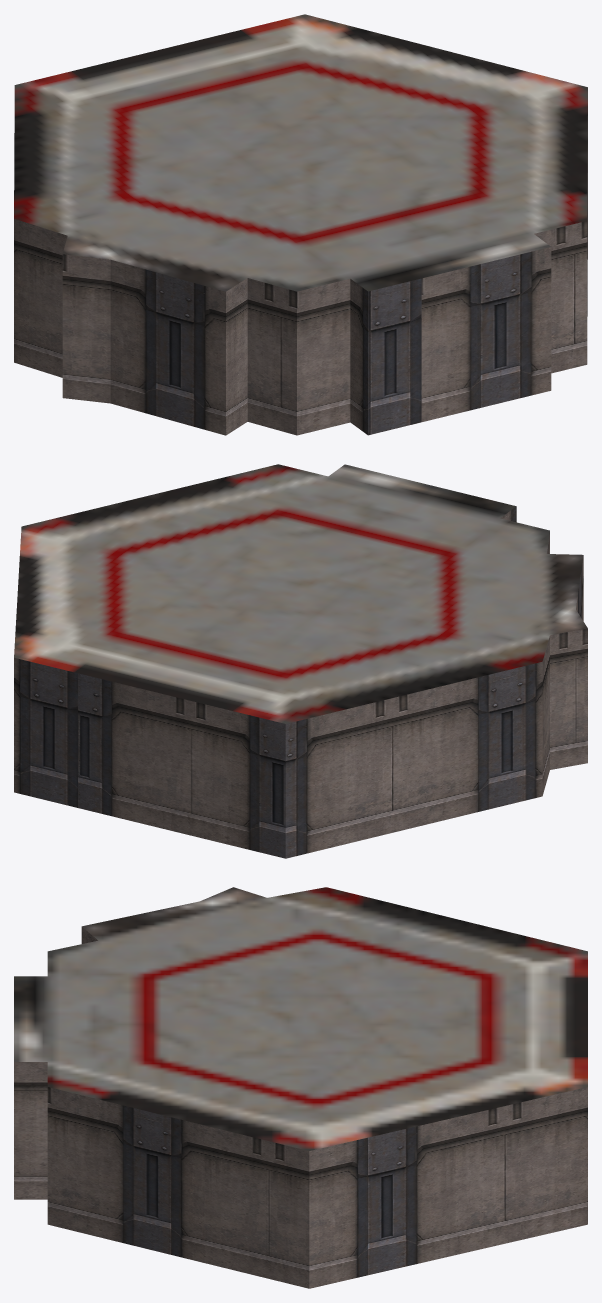
File: bsealed_light_24.glb
The picture shows the model from 3 angles, top to bottom: view 1: azimuth 30°, elevation 25°; view 2: azimuth 150°, elevation 25°; view 3: azimuth 270°, elevation 25°; orthographic projection. The views are drawn at different scales.
Parts seen in each view (by area): view 1: buildings/saxarba/bsealed_light/bsealed_light_24; view 2: buildings/saxarba/bsealed_light/bsealed_light_24; view 3: buildings/saxarba/bsealed_light/bsealed_light_24.
Boxes of the visible parts, x1,y1,x2,y2 form: buildings/saxarba/bsealed_light/bsealed_light_24: (14,14,587,435); buildings/saxarba/bsealed_light/bsealed_light_24: (14,464,587,858); buildings/saxarba/bsealed_light/bsealed_light_24: (14,887,587,1288).
Bounding box in the file's own units: 74 × 18 × 68.
